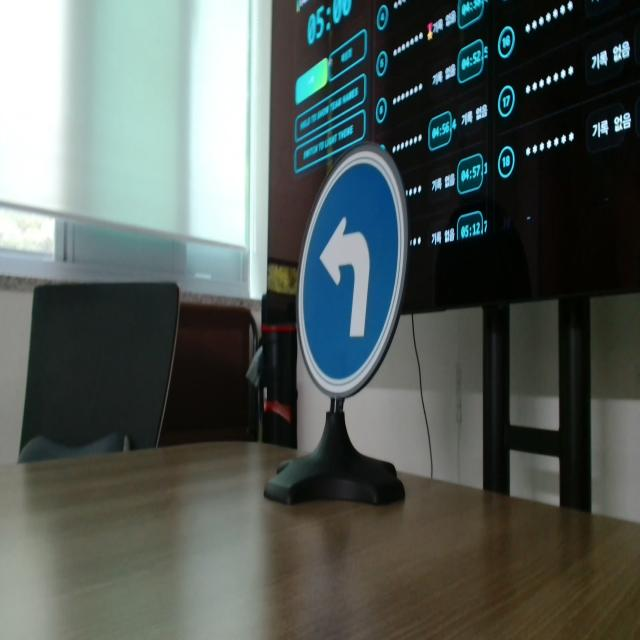left_direction: (296, 146, 408, 396)
